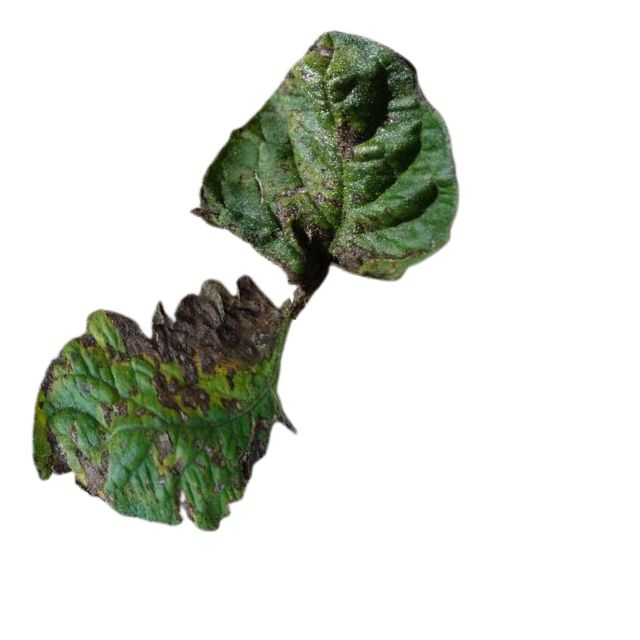Early_blight: (100, 274, 281, 420), (266, 178, 415, 276), (234, 415, 298, 492), (74, 441, 112, 502), (40, 422, 71, 475), (194, 436, 227, 473), (336, 119, 364, 162), (170, 486, 199, 525), (37, 356, 56, 410), (151, 429, 174, 466), (99, 400, 129, 426), (74, 332, 96, 348), (168, 458, 186, 476), (316, 40, 334, 57)
